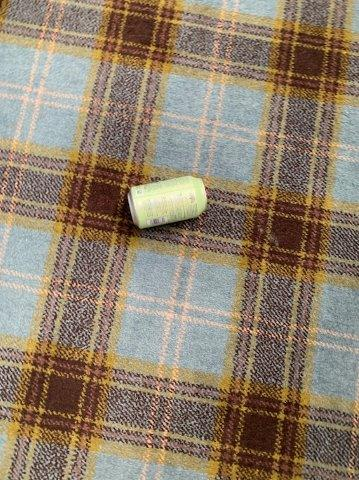kaleng: (128, 176, 207, 229)
